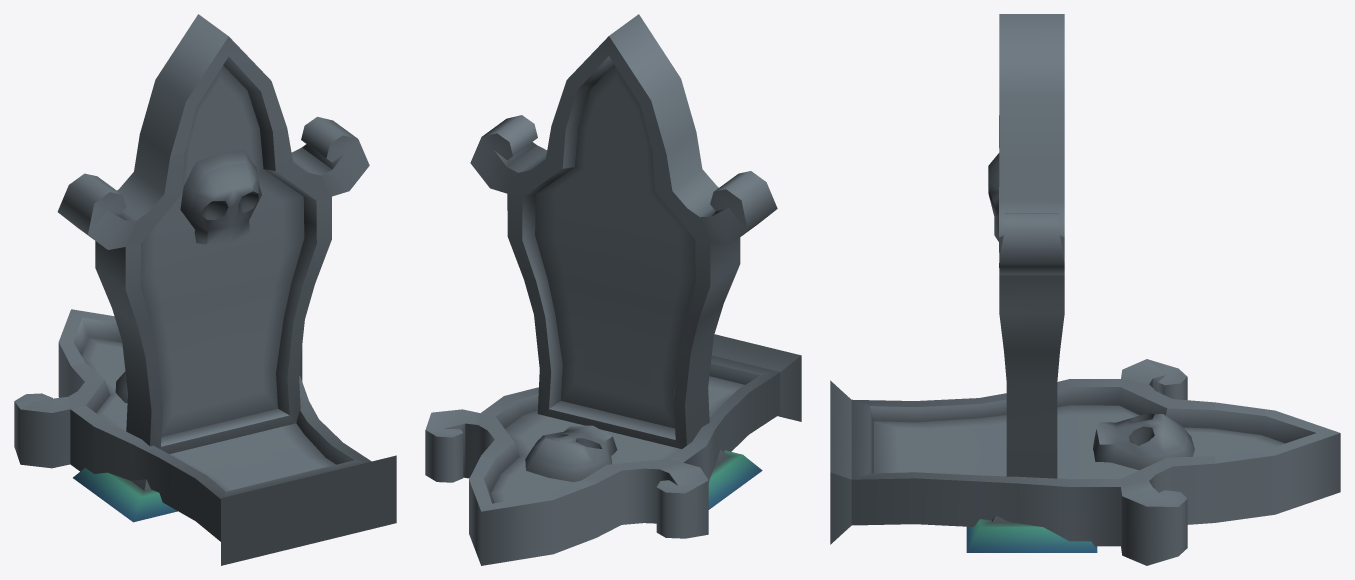
The model's file is Thombstone_VIP.fbx.
The picture shows the model from 3 angles, left to right: view 1: azimuth 30°, elevation 25°; view 2: azimuth 150°, elevation 25°; view 3: azimuth 270°, elevation 25°; orthographic projection. The views are drawn at different scales.
Visible parts, largest first — view 1: Thombstone_VIP, Thombstone_VIP_Item; view 2: Thombstone_VIP, Thombstone_VIP_Item; view 3: Thombstone_VIP_Item, Thombstone_VIP.
Boxes of the visible parts, box(x1,y1,x2,y2) form: Thombstone_VIP: box(57, 14, 369, 522); Thombstone_VIP_Item: box(14, 309, 396, 565); Thombstone_VIP: box(470, 14, 777, 509); Thombstone_VIP_Item: box(425, 334, 801, 565); Thombstone_VIP_Item: box(830, 359, 1340, 565); Thombstone_VIP: box(966, 14, 1097, 552).
Bounding box in the file's own units: 1.38 × 2.1 × 2.01.
